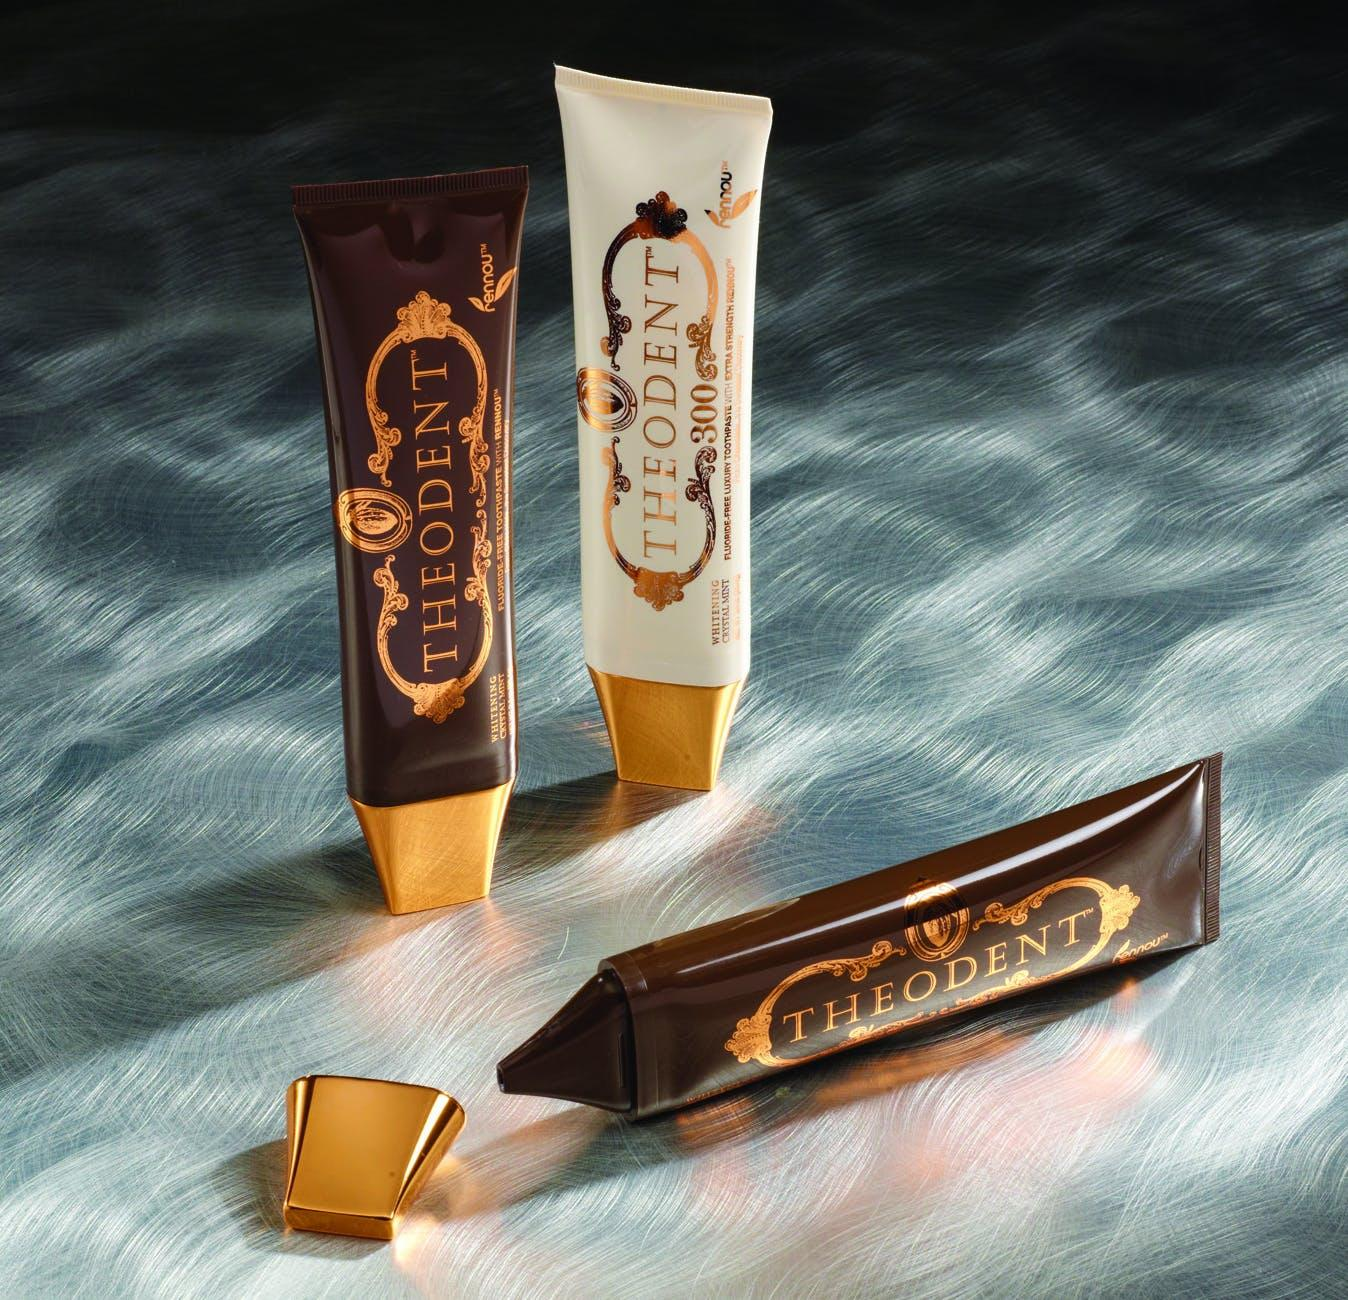toothpaste: (492, 716, 1283, 1171), (518, 0, 778, 828), (292, 143, 545, 899)
